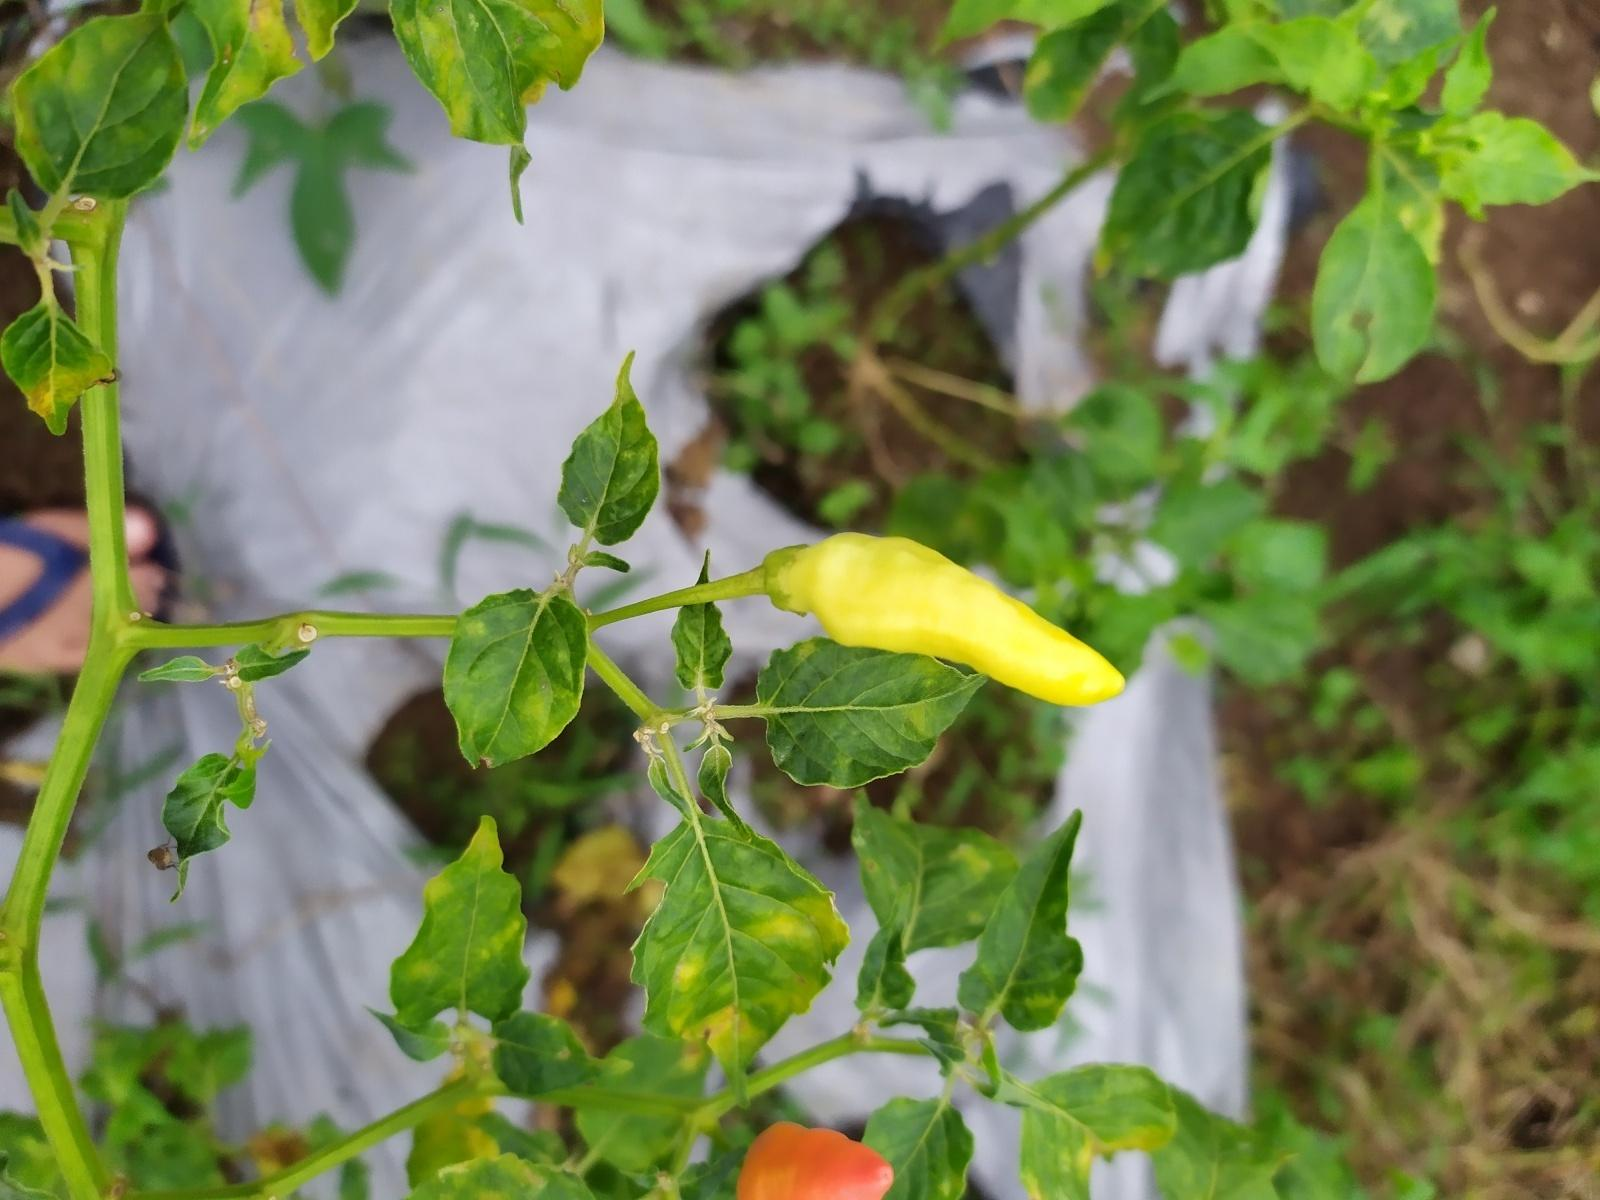cabai_normal: (774, 532, 1126, 708), (734, 1118, 900, 1200)
